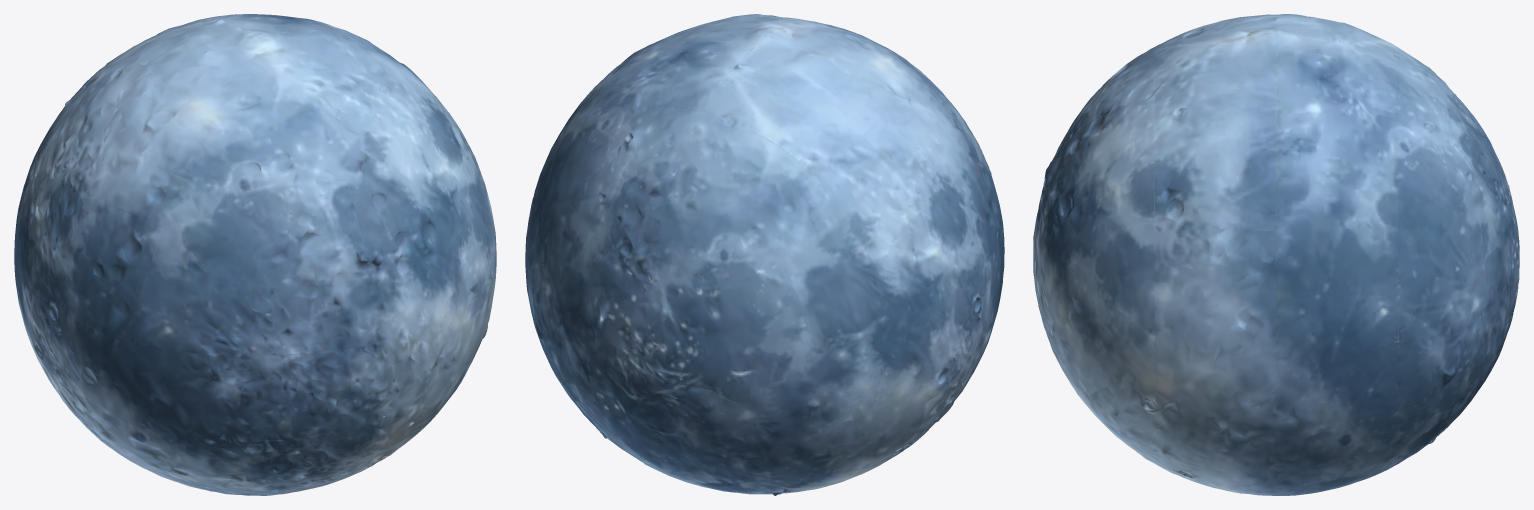
The model's file is moon.glb.
The picture shows the model from 3 angles, left to right: view 1: azimuth 30°, elevation 25°; view 2: azimuth 150°, elevation 25°; view 3: azimuth 270°, elevation 25°; orthographic projection.
Parts seen in each view (by area): view 1: geometry_0; view 2: geometry_0; view 3: geometry_0.
Part boxes in pixels (x1=…): geometry_0: x1=14, y1=14, x2=496, y2=495; geometry_0: x1=525, y1=14, x2=1004, y2=495; geometry_0: x1=1033, y1=14, x2=1519, y2=495.
Size of the model in its own units: 0.9862 by 0.9979 by 0.9999.
Materials: 1 (1 with a texture image).
